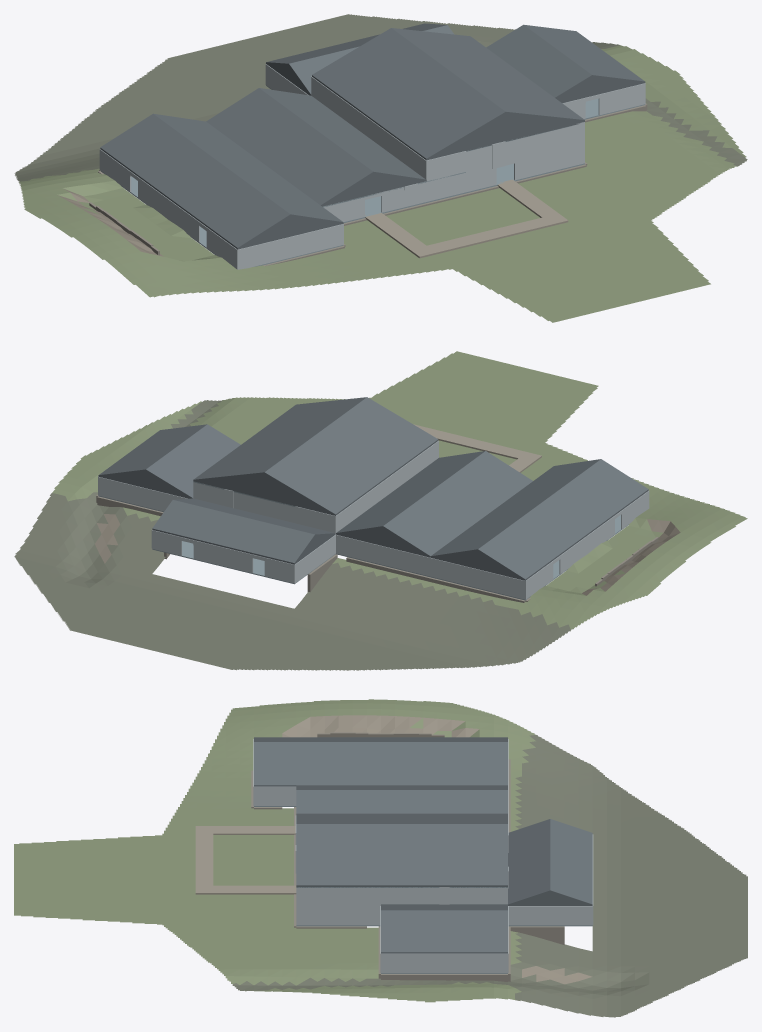
The model's file is architecture-without-guides.glb.
The picture shows the model from 3 angles, top to bottom: view 1: azimuth 30°, elevation 25°; view 2: azimuth 150°, elevation 25°; view 3: azimuth 270°, elevation 25°; orthographic projection. The views are drawn at different scales.
Visible parts, largest first — view 1: Saved editor circulation terrain WLD-13, processing-hall roof west, crew-mess-and-bunks roof west, boiler-and-wash roof west, processing-hall roof east, crew-mess-and-bunks roof east, boiler-and-wash roof east, cold-store roof west, Entrance rebuild WLD-13 continuous approach pavement region1, Entrance rebuild WLD-13 processing S end, processing-hall gable south, cold-store roof east (+18 smaller); view 2: Saved editor circulation terrain WLD-13, processing-hall roof west, crew-mess-and-bunks roof west, boiler-and-wash roof west, office-and-stores roof north, processing-hall roof east, crew-mess-and-bunks roof east, cold-store roof west, boiler-and-wash roof east, cold-store roof east, processing-hall gable north, Wall mess N (+19 smaller); view 3: Saved editor circulation terrain WLD-13, processing-hall roof east, crew-mess-and-bunks roof east, cold-store roof east, boiler-and-wash roof east, Entrance rebuild WLD-13 processing E end, office-and-stores roof south, office-and-stores roof north, Entrance rebuild WLD-13 continuous approach pavement region1, Wall cold E, processing-hall roof west, Wall stores E (+6 smaller).
Boxes of the visible parts, <box> form: Saved editor circulation terrain WLD-13: <box>14,14,747,322</box>; processing-hall roof west: <box>312,28,505,159</box>; crew-mess-and-bunks roof west: <box>100,114,290,249</box>; boiler-and-wash roof west: <box>206,88,373,205</box>; processing-hall roof east: <box>392,28,584,121</box>; crew-mess-and-bunks roof east: <box>153,113,343,223</box>; boiler-and-wash roof east: <box>259,88,425,180</box>; cold-store roof west: <box>486,25,592,98</box>; Entrance rebuild WLD-13 continuous approach pavement region1: <box>365,179,568,258</box>; Entrance rebuild WLD-13 processing S end: <box>514,122,584,180</box>; processing-hall gable south: <box>426,113,584,160</box>; cold-store roof east: <box>524,25,645,82</box>; Saved editor circulation terrain WLD-13: <box>14,351,747,670</box>; processing-hall roof west: <box>264,397,438,515</box>; crew-mess-and-bunks roof west: <box>478,459,648,580</box>; boiler-and-wash roof west: <box>383,451,532,557</box>; office-and-stores roof north: <box>152,500,314,564</box>; processing-hall roof east: <box>193,397,366,480</box>; crew-mess-and-bunks roof east: <box>430,459,600,557</box>; cold-store roof west: <box>146,424,240,498</box>; boiler-and-wash roof east: <box>336,451,484,534</box>; cold-store roof east: <box>98,424,206,476</box>; processing-hall gable north: <box>193,473,336,515</box>; Wall mess N: <box>430,557,525,599</box>; Saved editor circulation terrain WLD-13: <box>14,699,747,1017</box>; processing-hall roof east: <box>296,824,507,886</box>; crew-mess-and-bunks roof east: <box>254,742,507,786</box>; cold-store roof east: <box>381,910,507,953</box>; boiler-and-wash roof east: <box>296,790,507,813</box>; Entrance rebuild WLD-13 processing E end: <box>296,887,436,925</box>; office-and-stores roof south: <box>508,819,550,905</box>; office-and-stores roof north: <box>550,819,592,905</box>; Entrance rebuild WLD-13 continuous approach pavement region1: <box>195,826,296,894</box>; Wall cold E: <box>381,953,507,973</box>; processing-hall roof west: <box>296,813,507,823</box>; Wall stores E: <box>508,906,592,925</box>.
Bounding box in the file's own units: 97 × 15.43 × 104.
